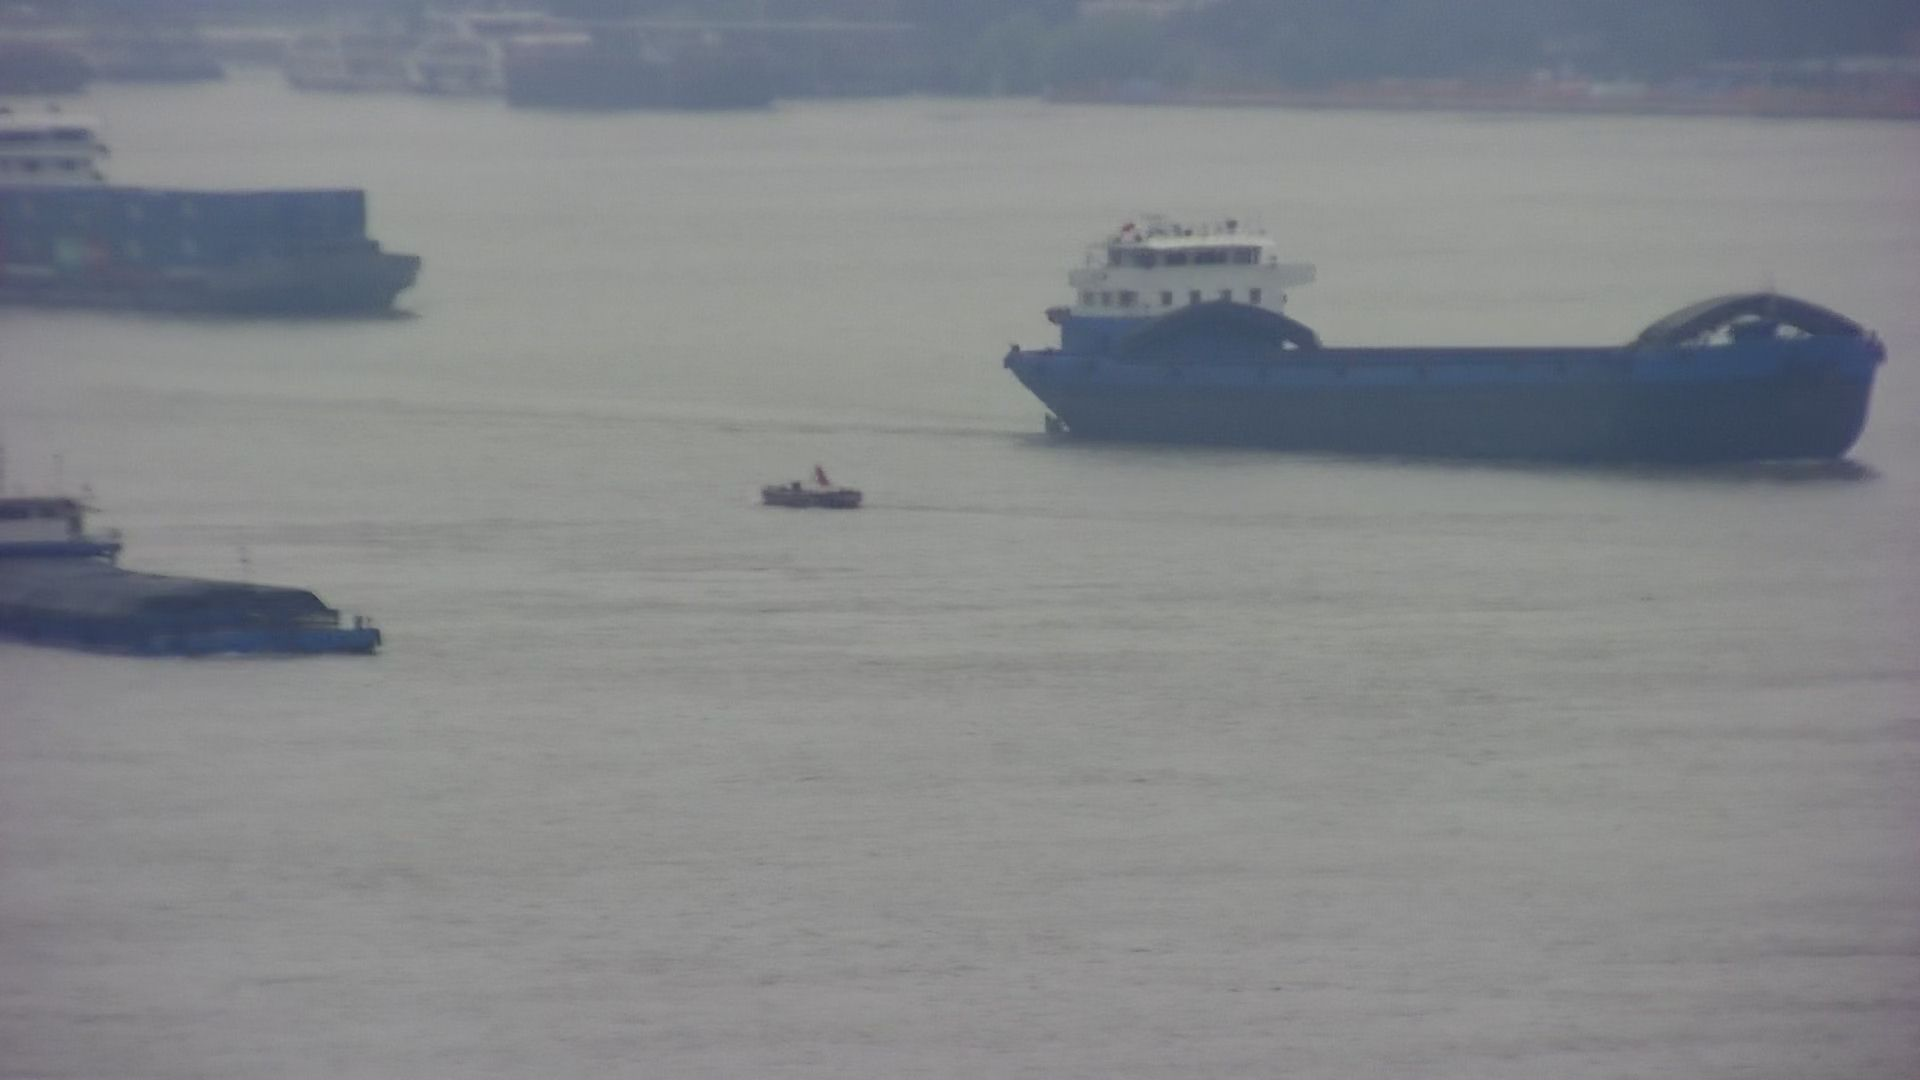boat: (764, 465, 862, 510)
ship: (996, 211, 1891, 477), (1, 109, 426, 319), (1, 456, 381, 665)
